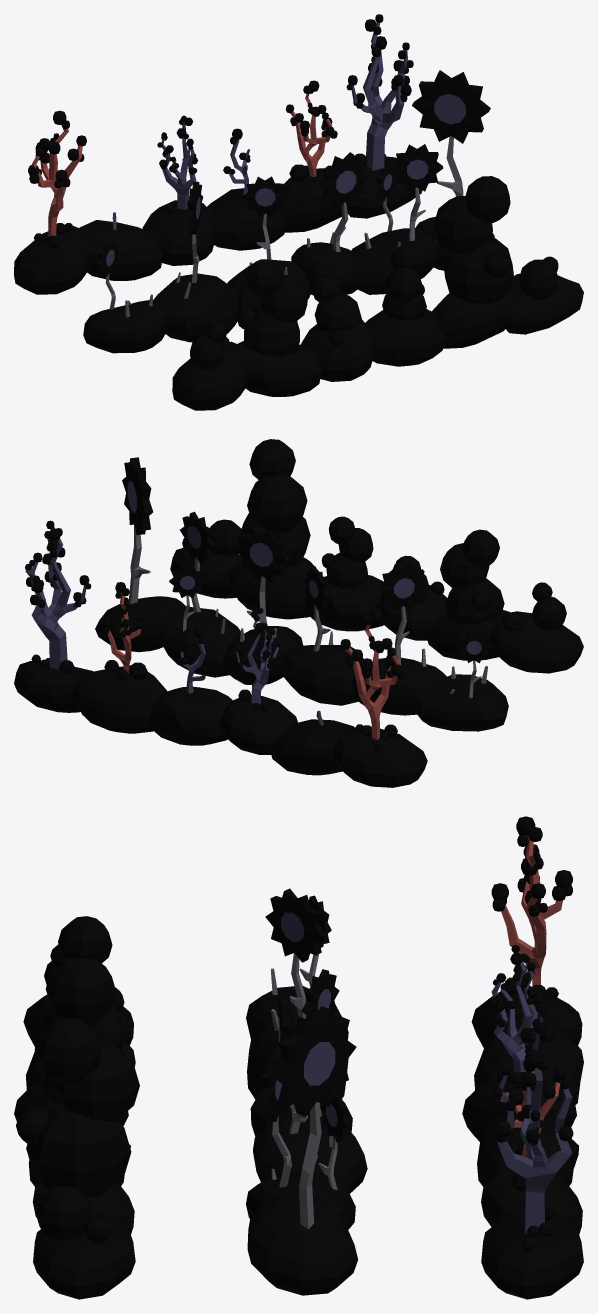
Rendered from Pflanzenfelder.fbx.
3 views of the same model, one above another, from view 1: azimuth 30°, elevation 25°; view 2: azimuth 150°, elevation 25°; view 3: azimuth 270°, elevation 25° (orthographic). The views are drawn at different scales.
Visible parts, largest first — view 1: Blumenbeete; view 2: Blumenbeete; view 3: Blumenbeete.
Boxes of the visible parts, x1=… form: Blumenbeete: x1=14, y1=14, x2=583, y2=410; Blumenbeete: x1=14, y1=439, x2=583, y2=787; Blumenbeete: x1=14, y1=816, x2=583, y2=1299.
Bounding box in the file's own units: 1778 × 795 × 1479.
